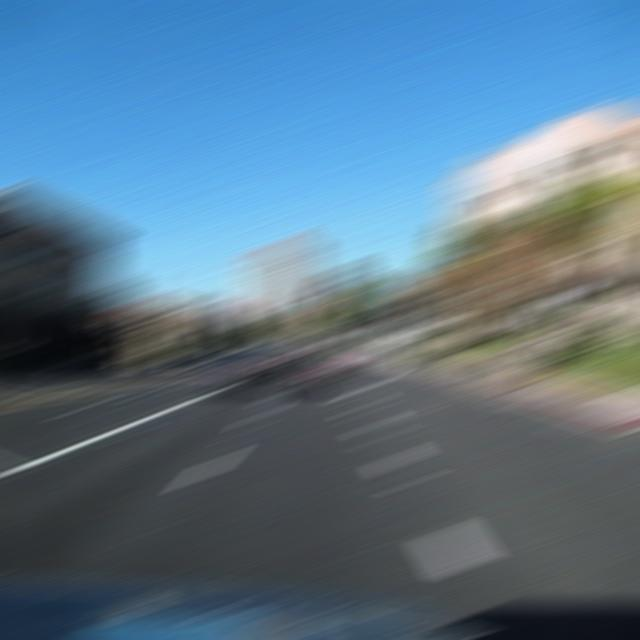speedLimit25: (530, 299, 564, 317)
